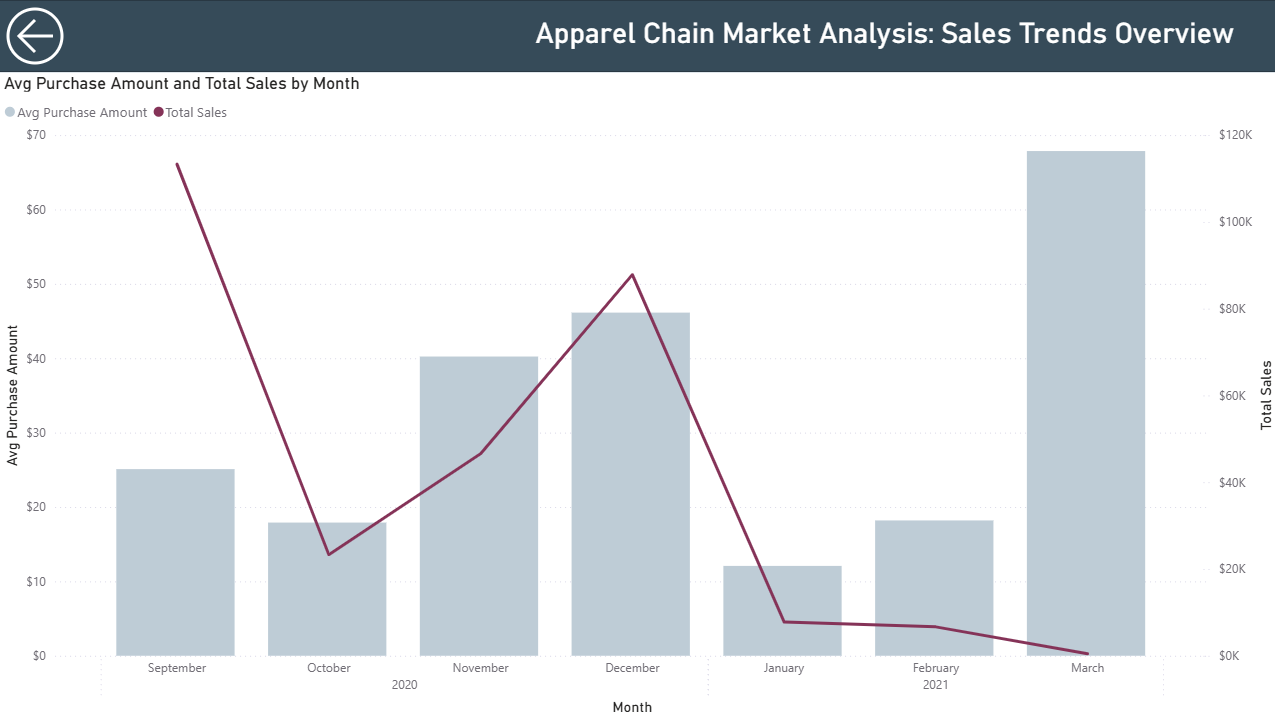

Layout of this report page (visuals, bound fields, positions):
{"tool":"powerbi","page":{"name":"Sales Trend","canvas":[1280,720],"ordinal":0},"visuals":[{"type":"shape","box":[0,0,1280,72],"z":0,"group":"g2"},{"type":"lineClusteredColumnComboChart","title":"Avg Purchase Amount and Total Sales by Month","fields":{"Y":["Avg(Purchases.Purchase Amount)"],"Y2":["Sum(Purchases.Purchase Amount)"],"Category":["Purchases.Date.Variation.Date Hierarchy.Year","Purchases.Date.Variation.Date Hierarchy.Month"]},"box":[0,72,1280,648],"z":0},{"type":"group","id":"g1","title":"Header","box":[0,0,1280,72],"z":1000},{"type":"textbox","box":[531,11,749,49],"z":1000,"group":"g2"},{"type":"group","id":"g2","title":"Header","box":[0,0,1280,72],"z":2000,"group":"g1"},{"type":"actionButton","title":"Back Button","box":[0,0,83,72],"z":2500,"group":"g1"}]}

Visuals, with their boxes in screenshot pixels (x1, y1, x2, y2), scaled from the page's 1280x720 canvas onto the 1275x718 screenshot:
shape: <box>0,0,1274,72</box>
"Avg Purchase Amount and Total Sales by Month" lineClusteredColumnComboChart: <box>0,72,1274,717</box>
"Header" group: <box>0,0,1274,72</box>
textbox: <box>529,11,1274,60</box>
"Header" group: <box>0,0,1274,72</box>
"Back Button" actionButton: <box>0,0,83,72</box>
